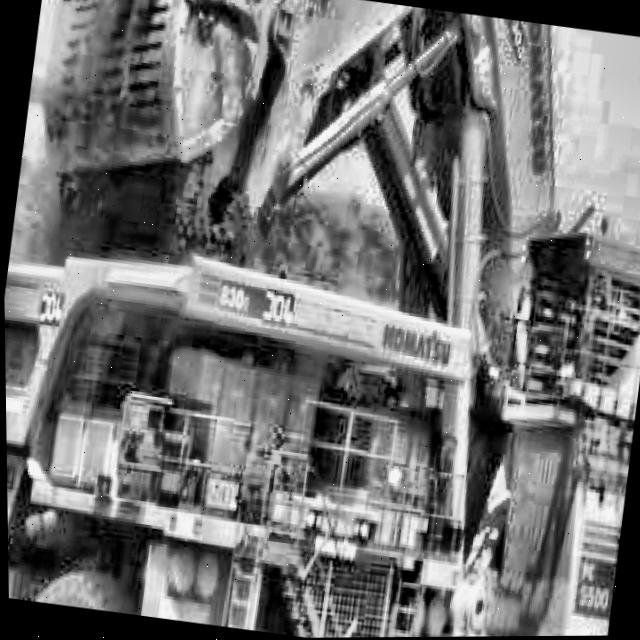dump_truck: (2, 197, 496, 640)
excavator: (0, 0, 640, 640)
